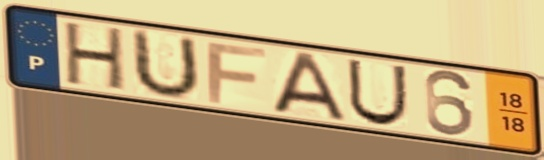6: (422, 68, 477, 139)
A: (270, 50, 349, 123)
F: (204, 40, 270, 106)
H: (63, 20, 127, 94)
U: (129, 27, 203, 102), (344, 56, 410, 127)
